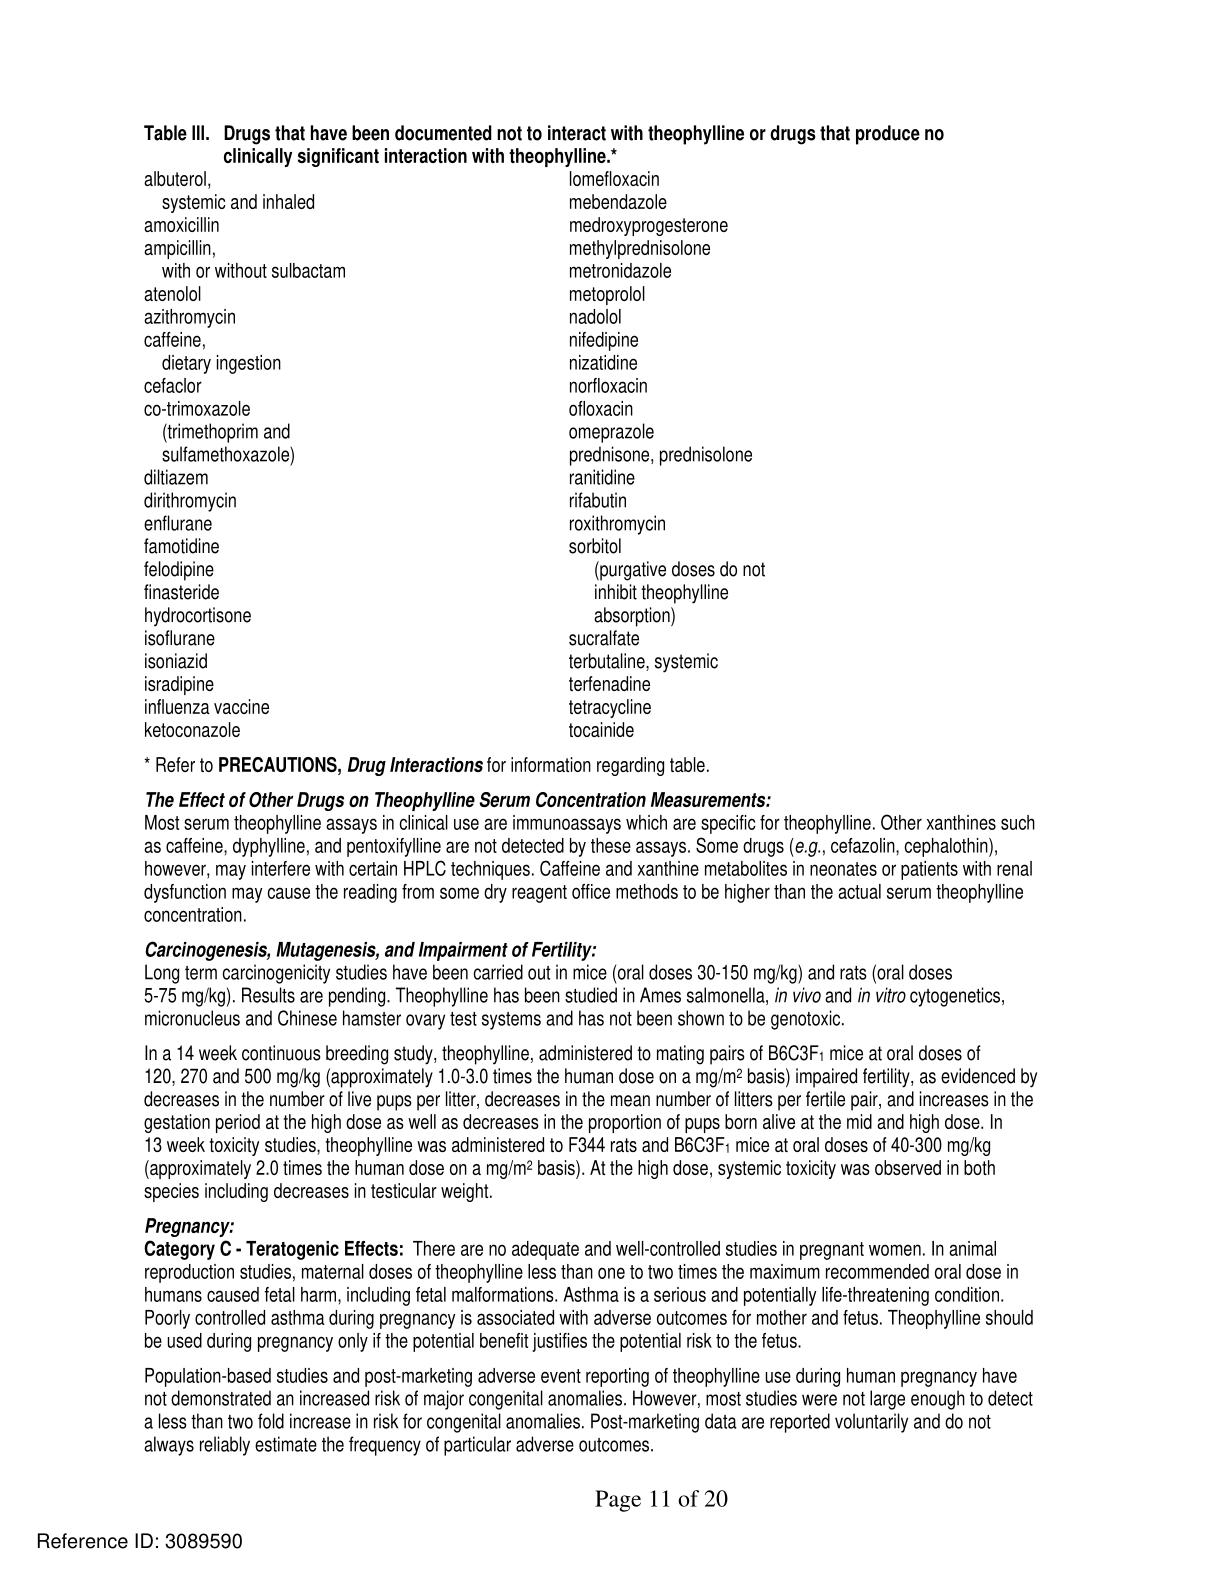nolines: (141, 168, 768, 739)
